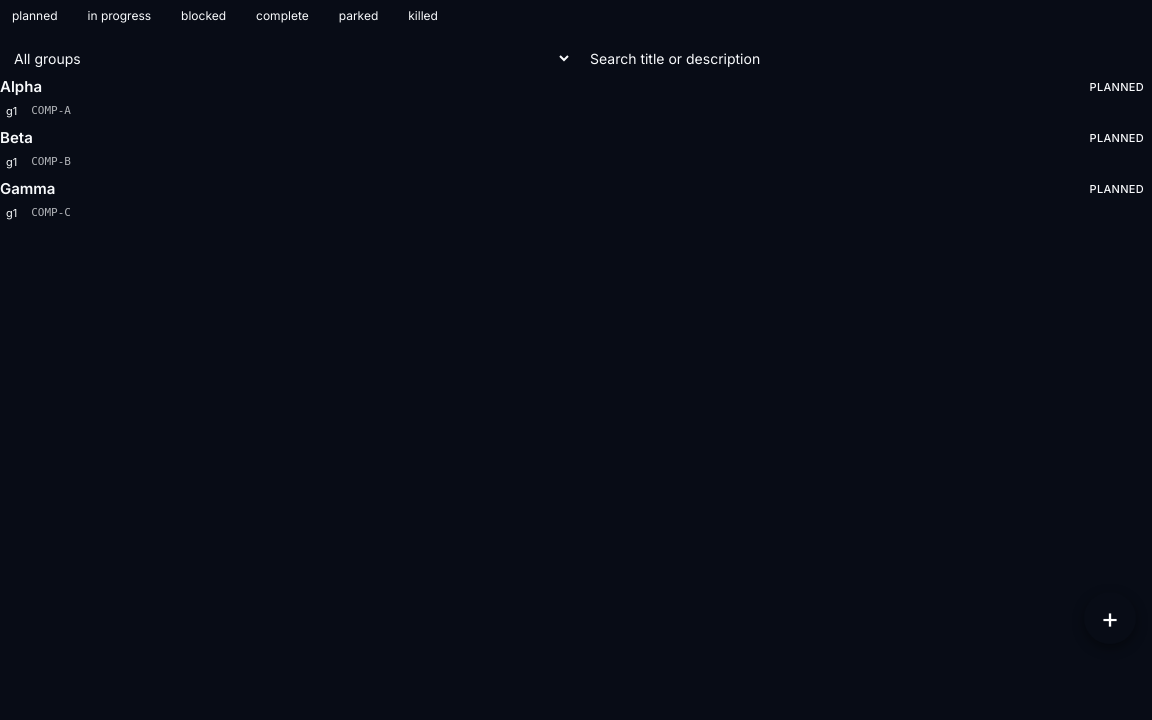
Test: S4: Connection direction arrows › renders ← for incoming connection (toId === item.id)
Click the button with test id "mobile-item-card-COMP-A". click: (21, 86)
box: [0,77,1151,120]
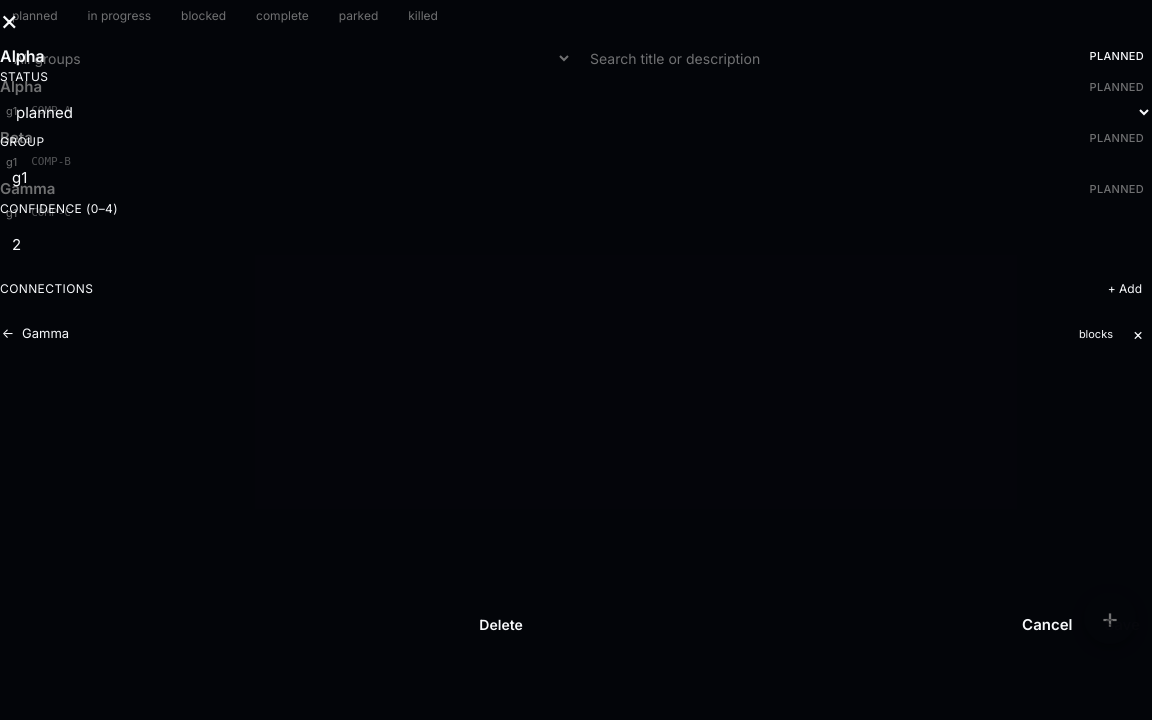
Expected: the button with test id "mobile-item-conn-remove-0" is shown, [1124,320,1151,348]
Expected: the list item with test id "mobile-item-conn-remove-0" shows "←", [2,325,14,341]
Expected: the list item with test id "mobile-item-conn-remove-0" shows "Gamma", [22,325,69,341]
